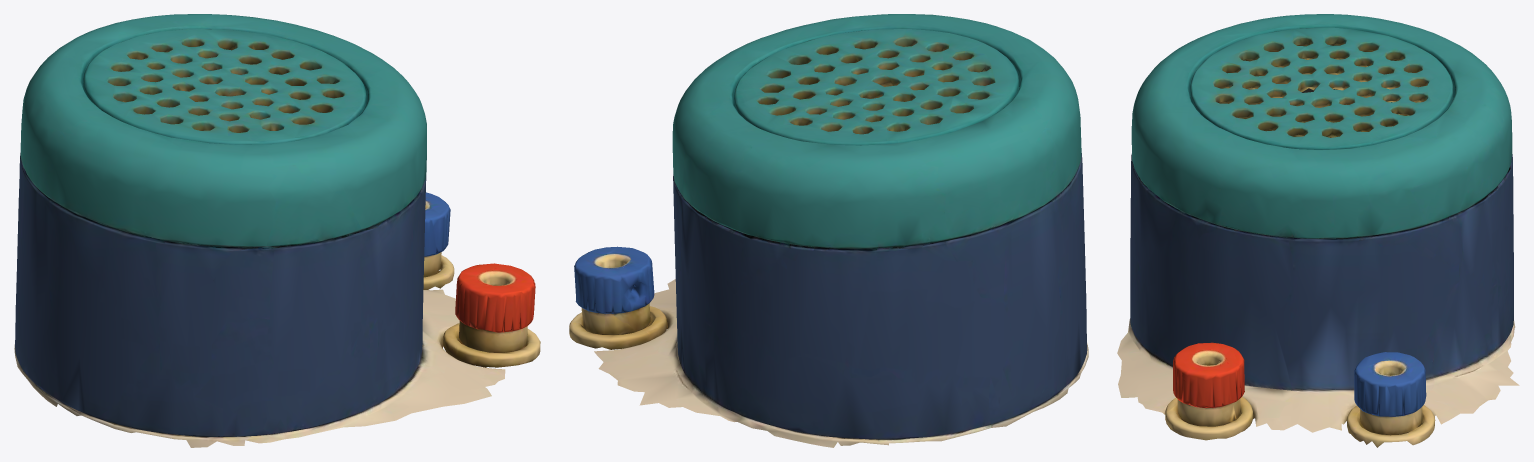
Rendered from buzzer.glb.
3 renders of one model, left to right at view 1: azimuth 30°, elevation 25°; view 2: azimuth 150°, elevation 25°; view 3: azimuth 270°, elevation 25°, orthographic. The views are drawn at different scales.
Visible parts, largest first — view 1: tripo_node_3b31fe34-931d-460e-baaf-68b98854860e; view 2: tripo_node_3b31fe34-931d-460e-baaf-68b98854860e; view 3: tripo_node_3b31fe34-931d-460e-baaf-68b98854860e.
Part boxes in pixels (x1,y1,x2,y2): tripo_node_3b31fe34-931d-460e-baaf-68b98854860e: [14, 14, 540, 447]; tripo_node_3b31fe34-931d-460e-baaf-68b98854860e: [569, 14, 1088, 447]; tripo_node_3b31fe34-931d-460e-baaf-68b98854860e: [1117, 14, 1519, 447].
Size of the model in its own units: 0.9025 by 0.5493 by 0.7882.
1 material, 1 textured.
